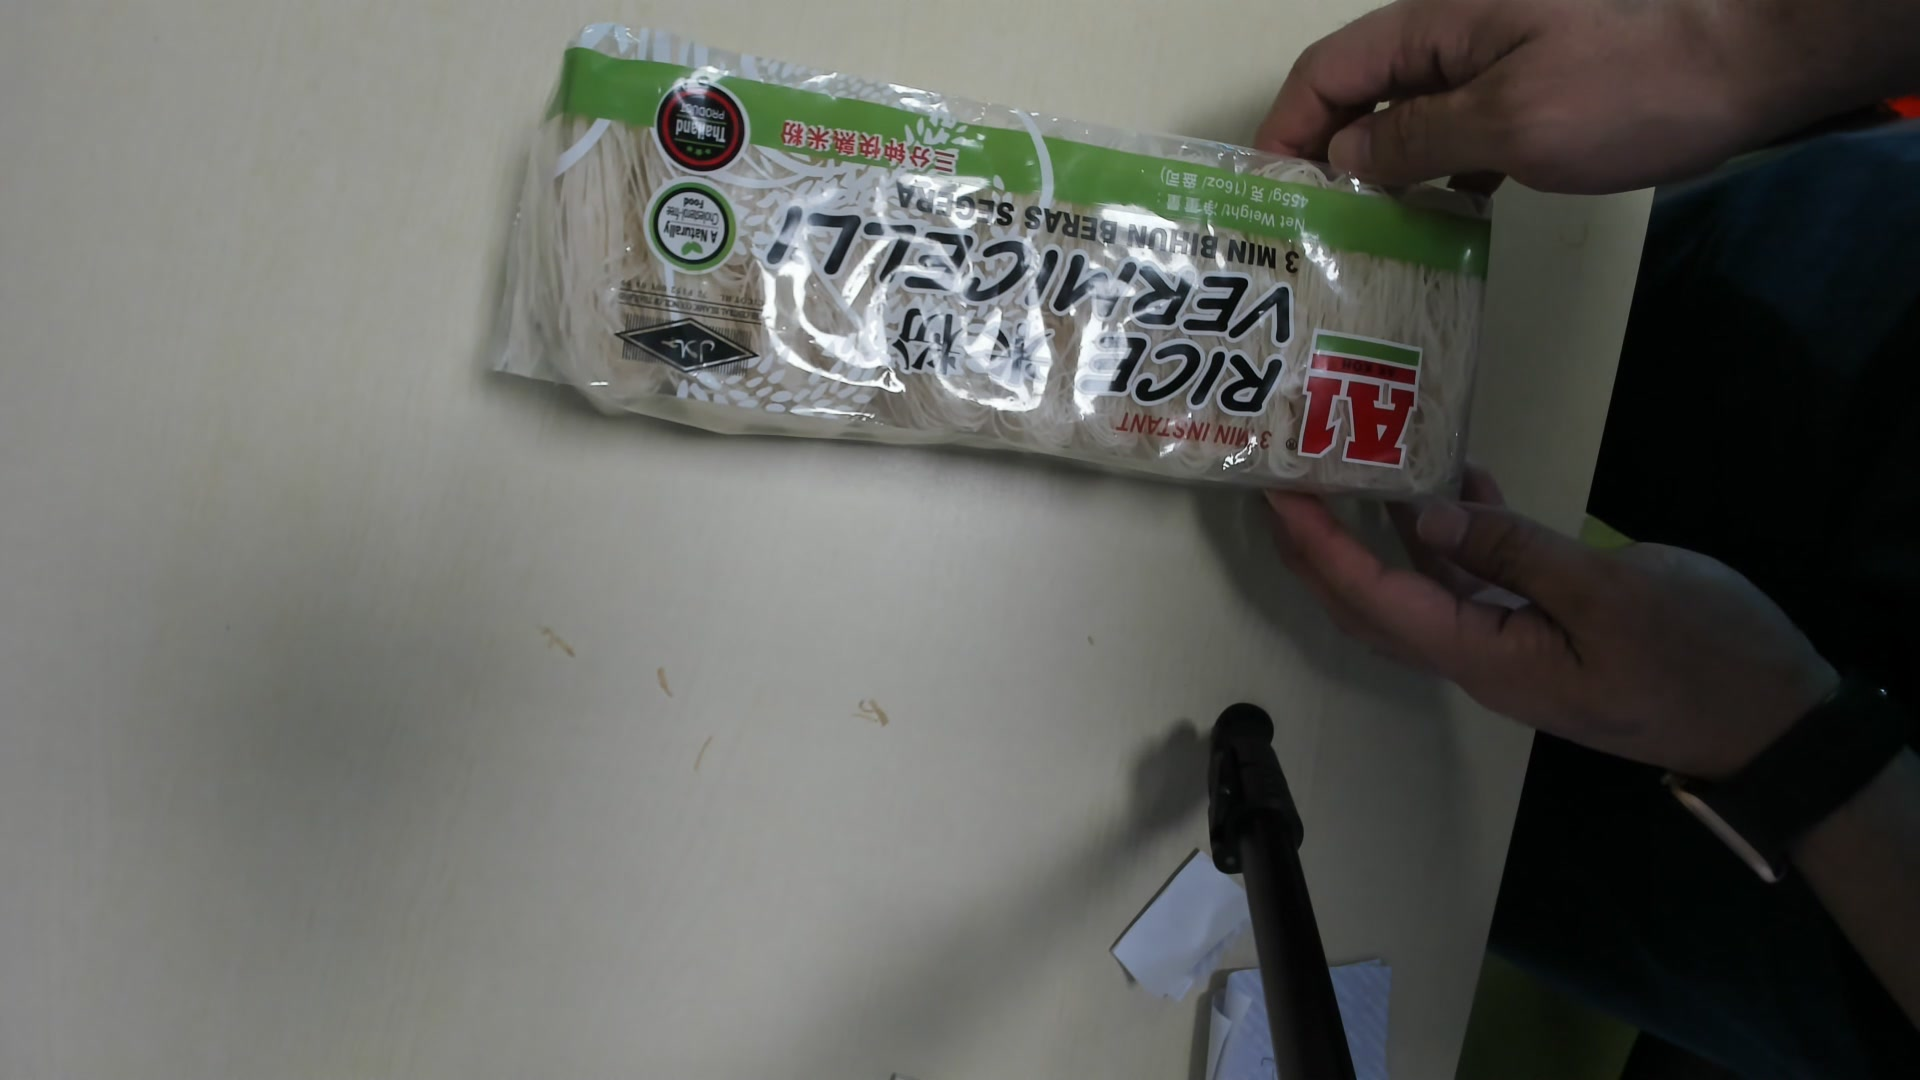BeeHoonVermicelli_400-499g_Halal_NonHealthy: (510, 33, 1494, 502)
